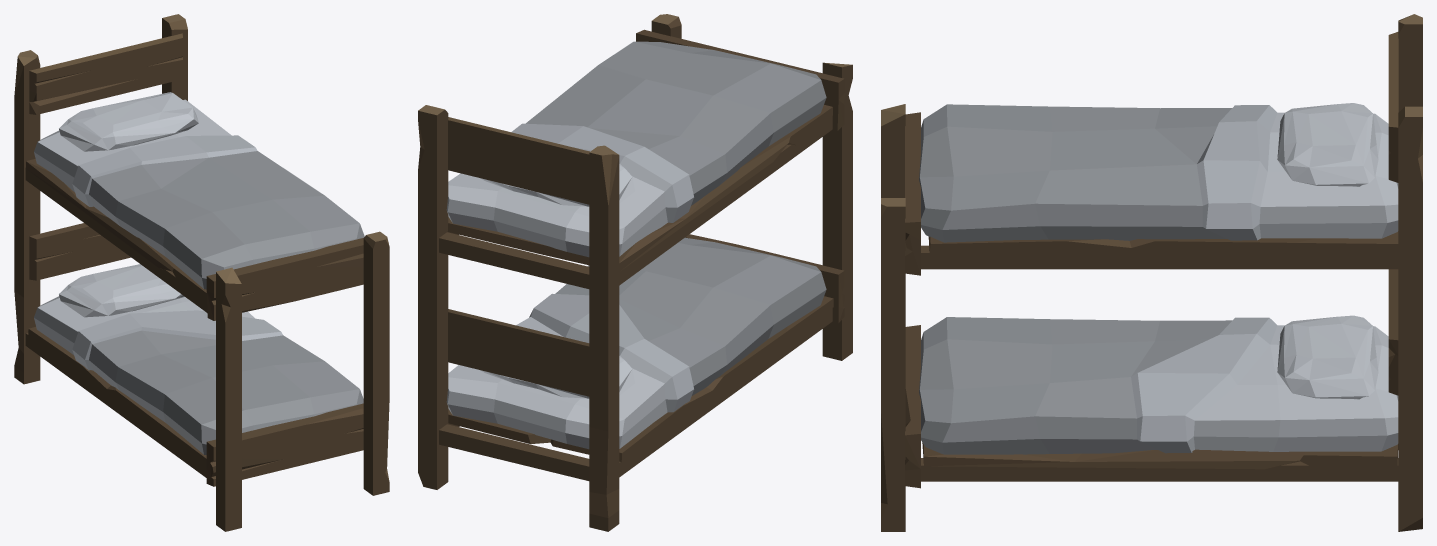
File: SM_Prop_Bed_07.fbx
3 views of the same model, side by side, from view 1: azimuth 30°, elevation 25°; view 2: azimuth 150°, elevation 25°; view 3: azimuth 270°, elevation 25° (orthographic). The views are drawn at different scales.
Visible parts, largest first — view 1: SM_Prop_Bed_07; view 2: SM_Prop_Bed_07; view 3: SM_Prop_Bed_07.
Boxes of the visible parts, box(x1,y1,x2,y2) form: SM_Prop_Bed_07: box(14, 14, 389, 531); SM_Prop_Bed_07: box(418, 14, 852, 531); SM_Prop_Bed_07: box(881, 14, 1422, 531).
Bounding box in the file's own units: 1.06 × 1.88 × 2.23.
1 material, 1 textured.
